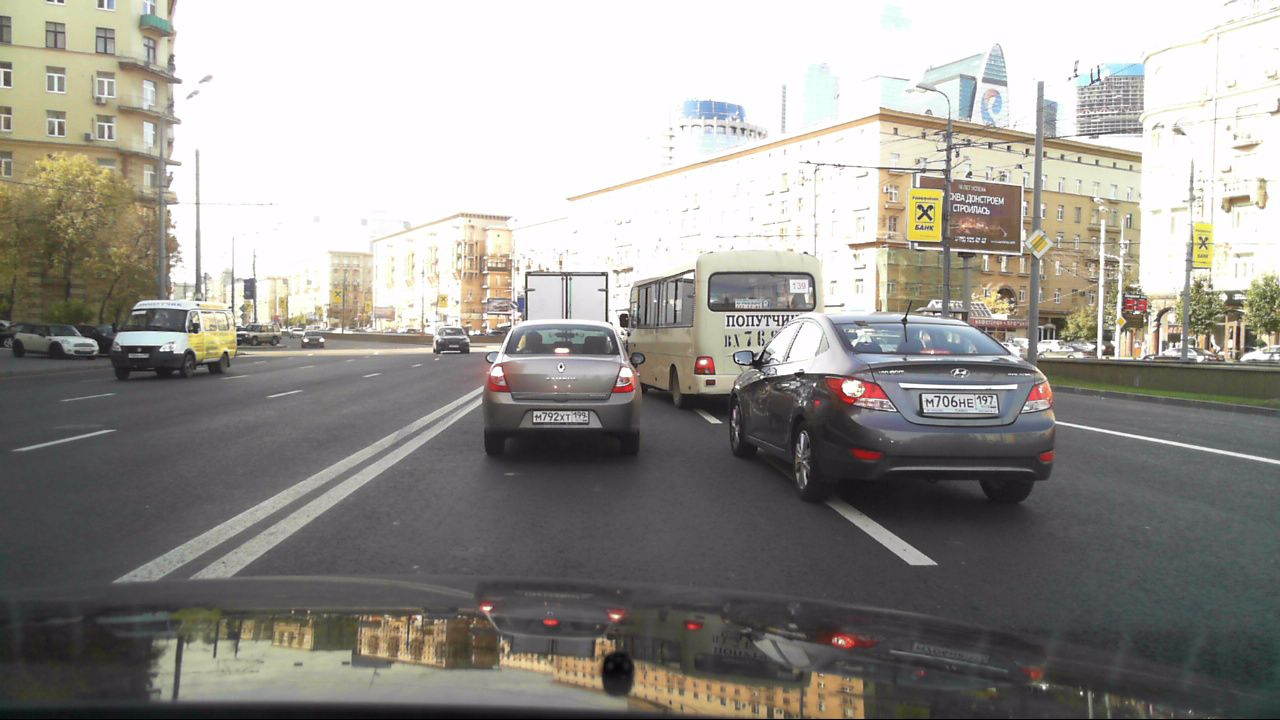main road: (1022, 226, 1054, 259)
